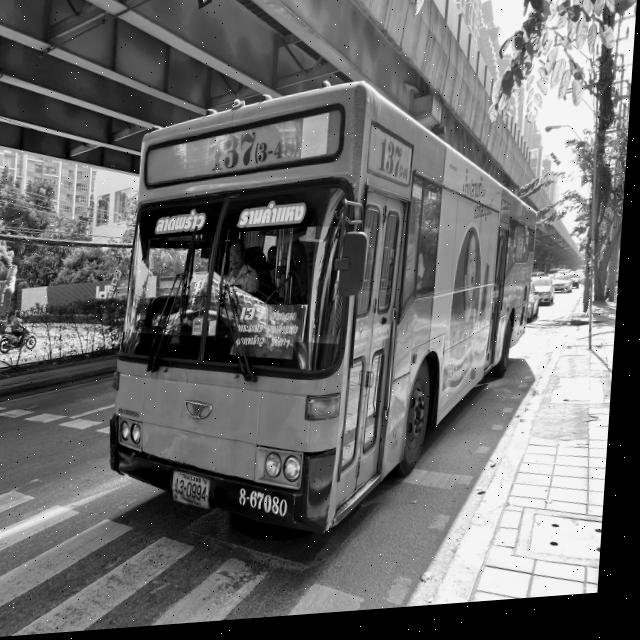BMTA-bus: (108, 77, 550, 555)
Bus-Line-Number: (209, 129, 303, 176)
Destination-Sign-Normal: (239, 304, 309, 370)
